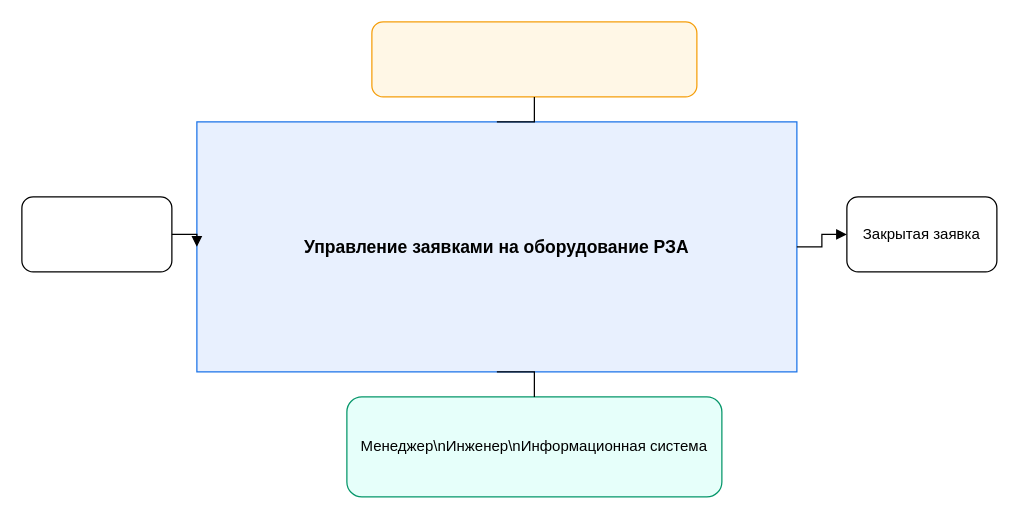
Some shapes in this 1019 by 519 pixel diagram are drawn without their labels. Here are the shapes that lost their labels. From the top down, the centre of each, then its label:
At (x=534, y=59): "Правила работы\nПрайс-лист\nSLA".
At (x=96, y=234): "Заявка от клиента".
